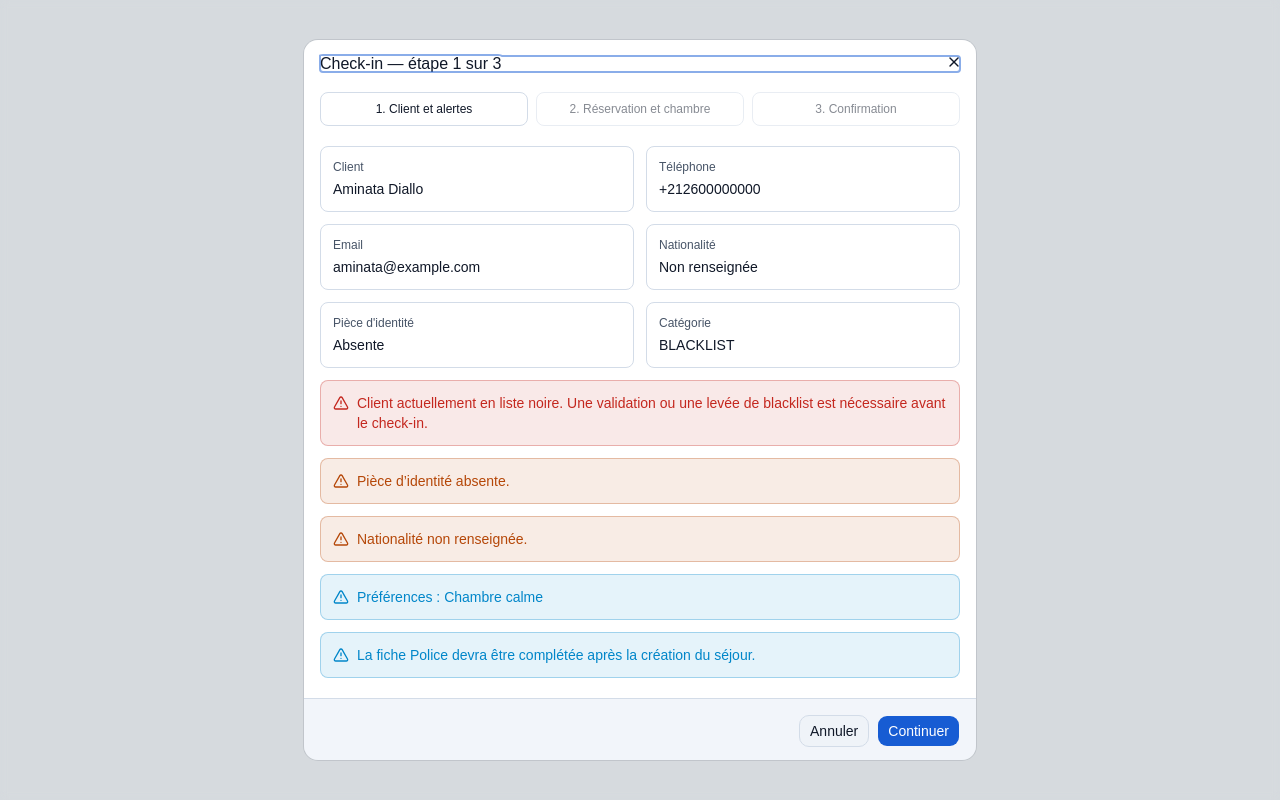
ReservationCheckinDialog › bloque un client actuellement BLACKLIST sans appeler la confirmation
Expected: the text "validation ou une levée de blacklist" is shown, [357,395,945,431]
Click the button "Continuer". click: (919, 731)
box: [877,715,960,747]
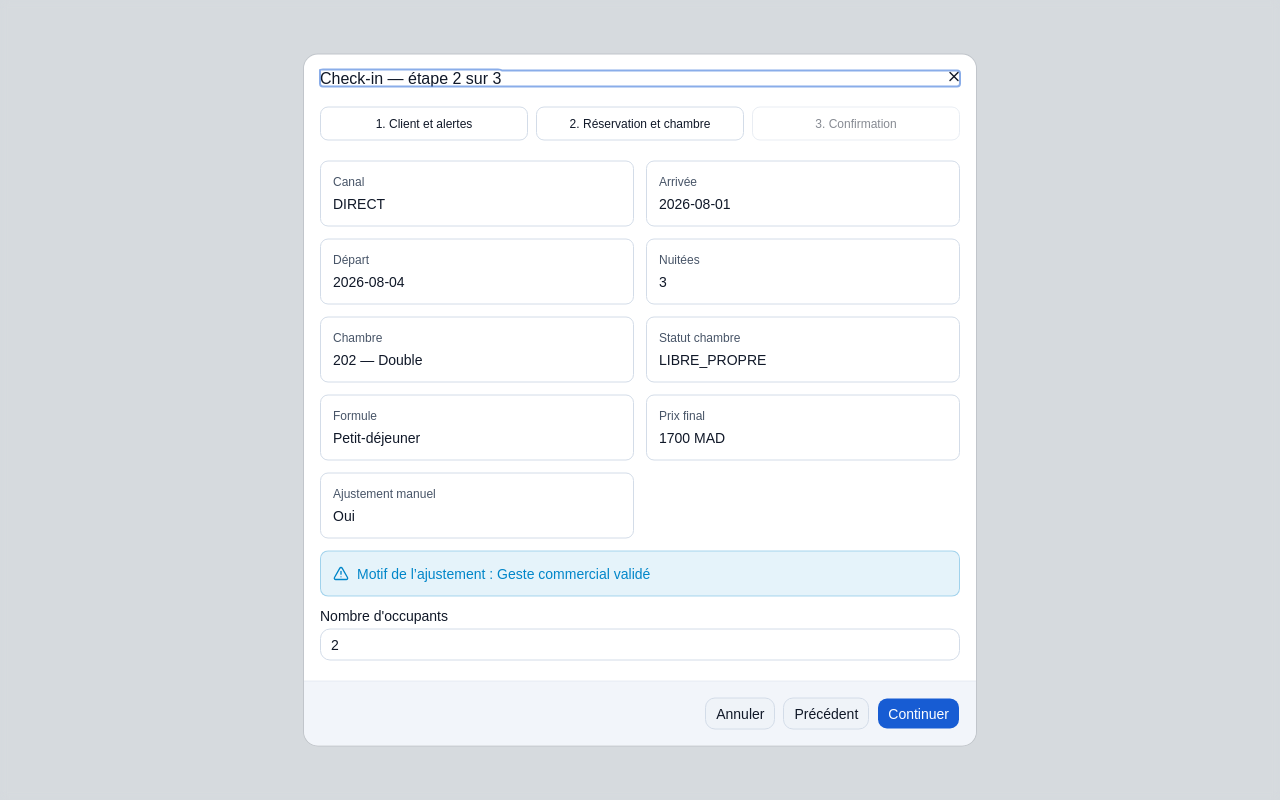
Click the button "Continuer". click: (919, 714)
box: [877,698,960,730]
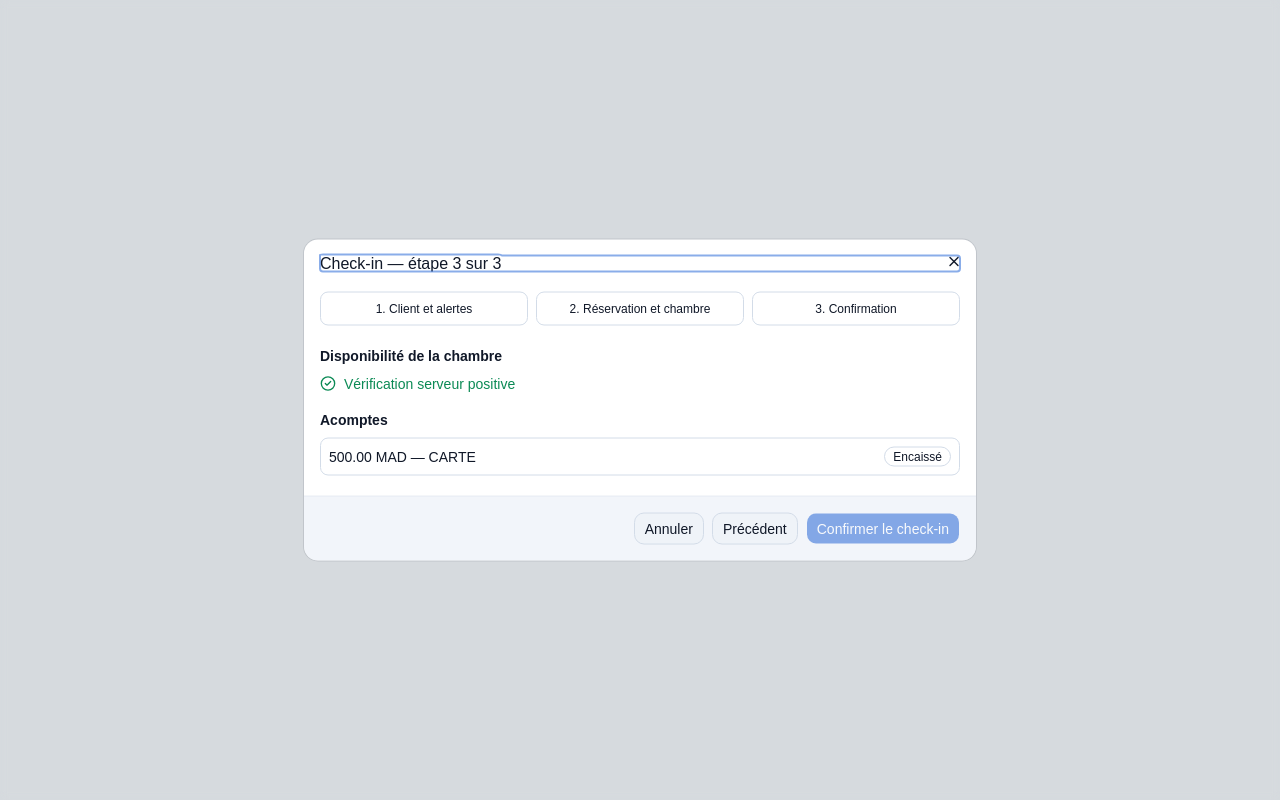
Now the button "Confirmer le check-in" is disabled, box [806,512,960,544]
